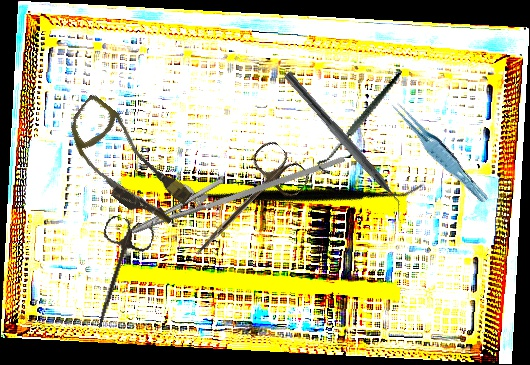Cannula: (49, 92, 204, 235)
Chopper: (272, 69, 416, 225)
Hook Surgical: (297, 72, 426, 177)
Iris Scissors: (177, 137, 314, 276), (78, 213, 156, 336)
Needle Holder: (122, 114, 347, 261)
Spatula Surgical: (176, 85, 427, 310)
Tissue Forceps: (388, 91, 490, 211)
